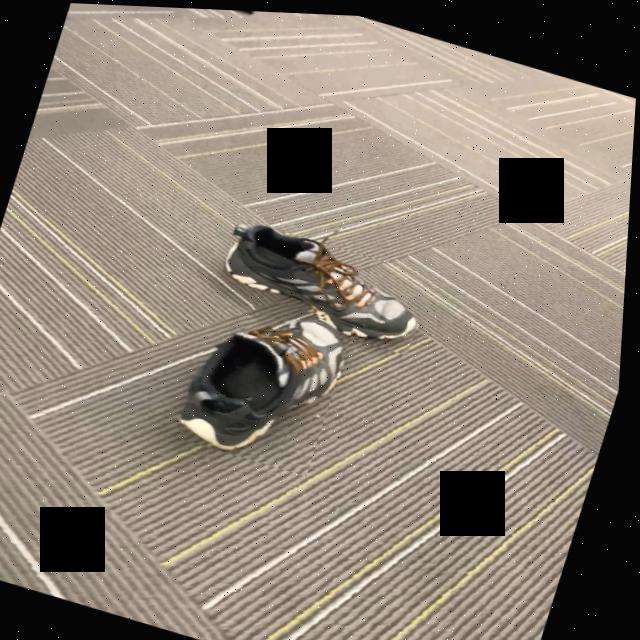shoe: (228, 225, 421, 340), (188, 312, 348, 450)
